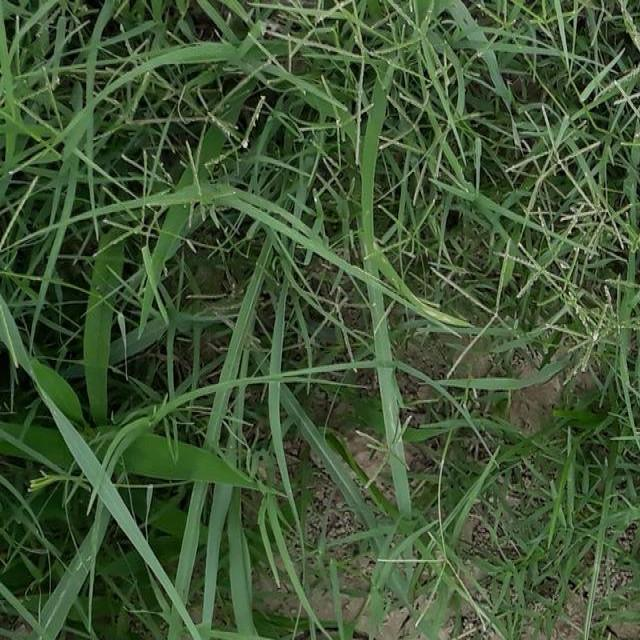weed: (0, 0, 631, 435)
